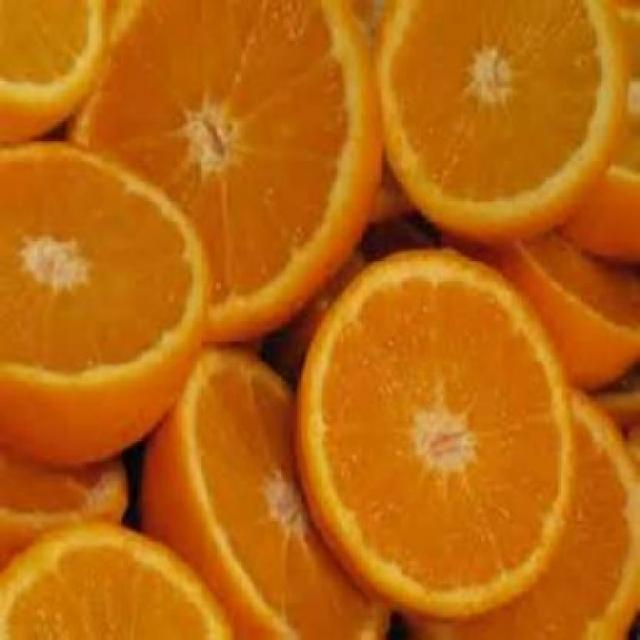Orange: (0, 0, 640, 638), (294, 244, 576, 620)
